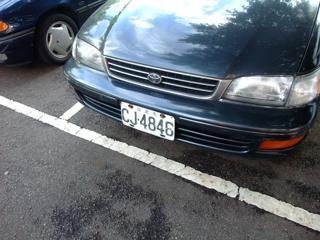plate: (117, 99, 177, 143)
